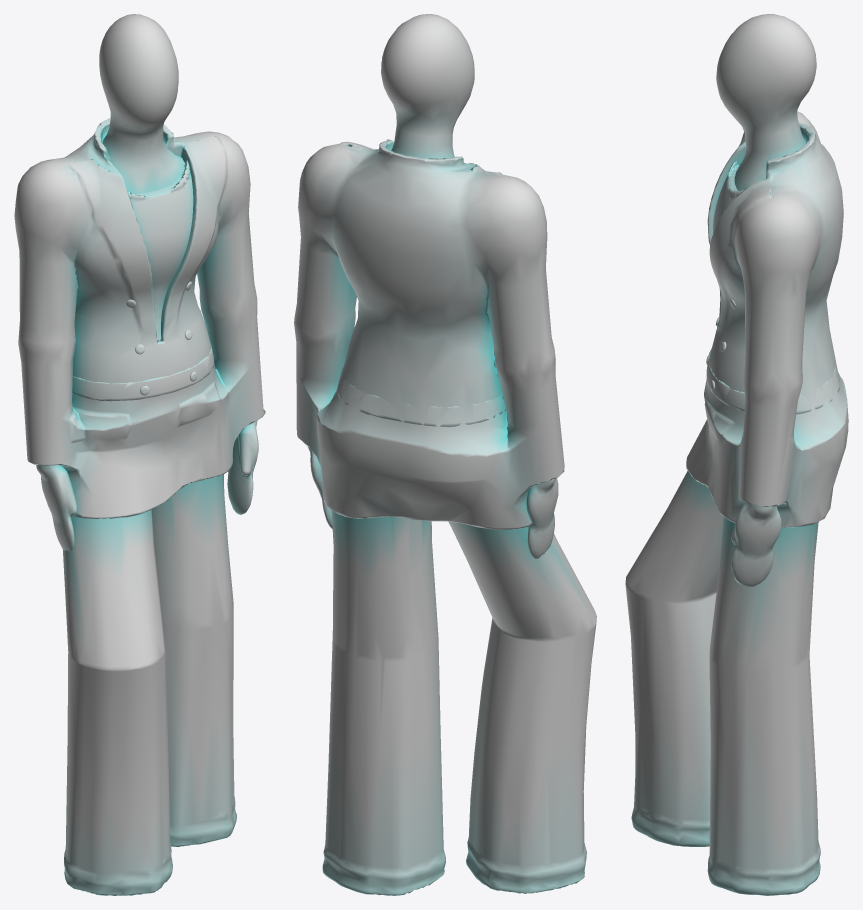
File: mannequin-suit.glb
3 renders of one model, left to right at view 1: azimuth 30°, elevation 25°; view 2: azimuth 150°, elevation 25°; view 3: azimuth 270°, elevation 25°, orthographic. The views are drawn at different scales.
Parts seen in each view (by area): view 1: blazer, trousers, body, knit; view 2: blazer, trousers, body; view 3: trousers, blazer, body, knit.
Part boxes in pixels (box(x1,y1,x2,y2)): blazer: box(14, 118, 265, 519); trousers: box(63, 348, 236, 895); body: box(36, 14, 258, 550); knit: box(127, 157, 193, 340); blazer: box(294, 139, 564, 529); trousers: box(322, 368, 596, 895); body: box(307, 14, 558, 558); trousers: box(625, 349, 839, 895); blazer: box(686, 111, 848, 527); body: box(716, 14, 816, 587); knit: box(713, 161, 743, 233).
Size of the model in its own units: 0.5646 by 1.84 by 0.444.
